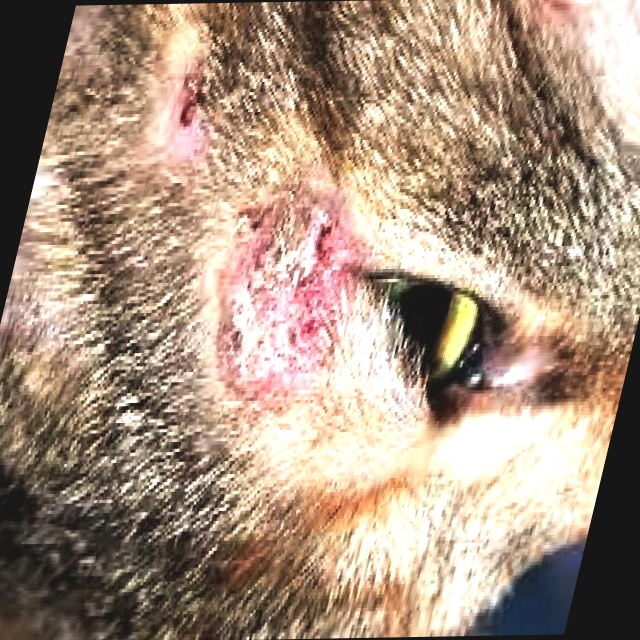ringworm: (179, 193, 395, 439), (156, 66, 220, 152)
